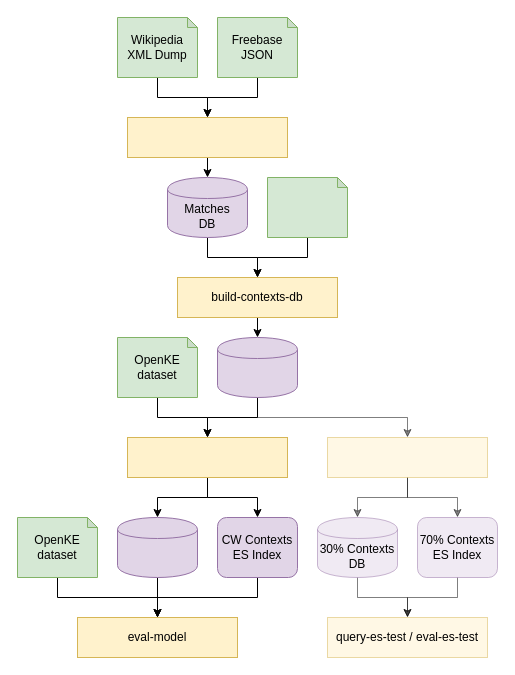
Image size: 515x675. Some labels were removed from this diagram. Each missing label, with the centre of its shape:
build-baseline: [207,457]
build-es-test: [407,457]
build-matches-db: [207,137]
Contexts DB: [257,367]
MID -> ryn ID TXT: [307,207]
OW Contexts DB: [157,547]
